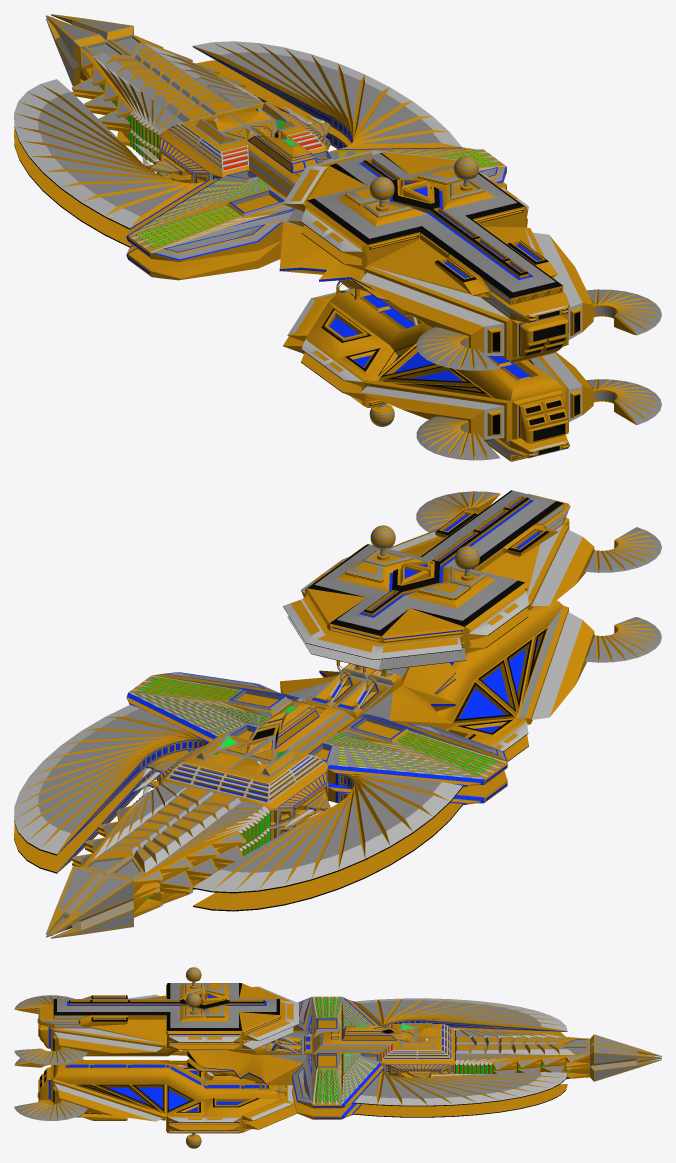
File: amenhotep.glb
3 renders of one model, top to bottom at view 1: azimuth 30°, elevation 25°; view 2: azimuth 150°, elevation 25°; view 3: azimuth 270°, elevation 25°, orthographic. The views are drawn at different scales.
Visible parts, largest first — view 1: Plane.002, Plane.001; view 2: Plane.001, Plane.002; view 3: Plane.001, Plane.002.
Part boxes in pixels (bbox=[...]): Plane.002: bbox=[283, 150, 661, 461]; Plane.001: bbox=[14, 14, 506, 301]; Plane.001: bbox=[14, 660, 507, 938]; Plane.002: bbox=[283, 490, 661, 761]; Plane.001: bbox=[158, 996, 661, 1119]; Plane.002: bbox=[14, 967, 298, 1148].
Size of the model in its own units: 6.8 by 4.51 by 17.17.
